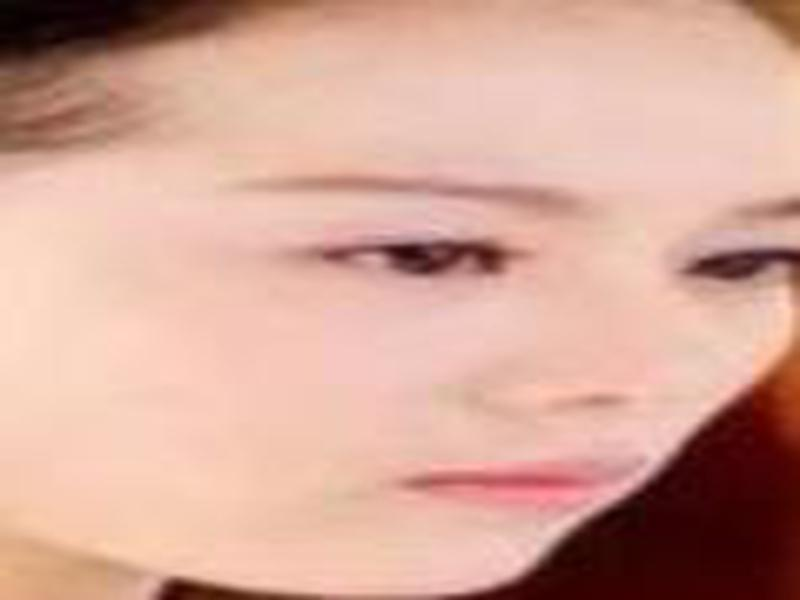without_mask: (4, 12, 800, 589)
